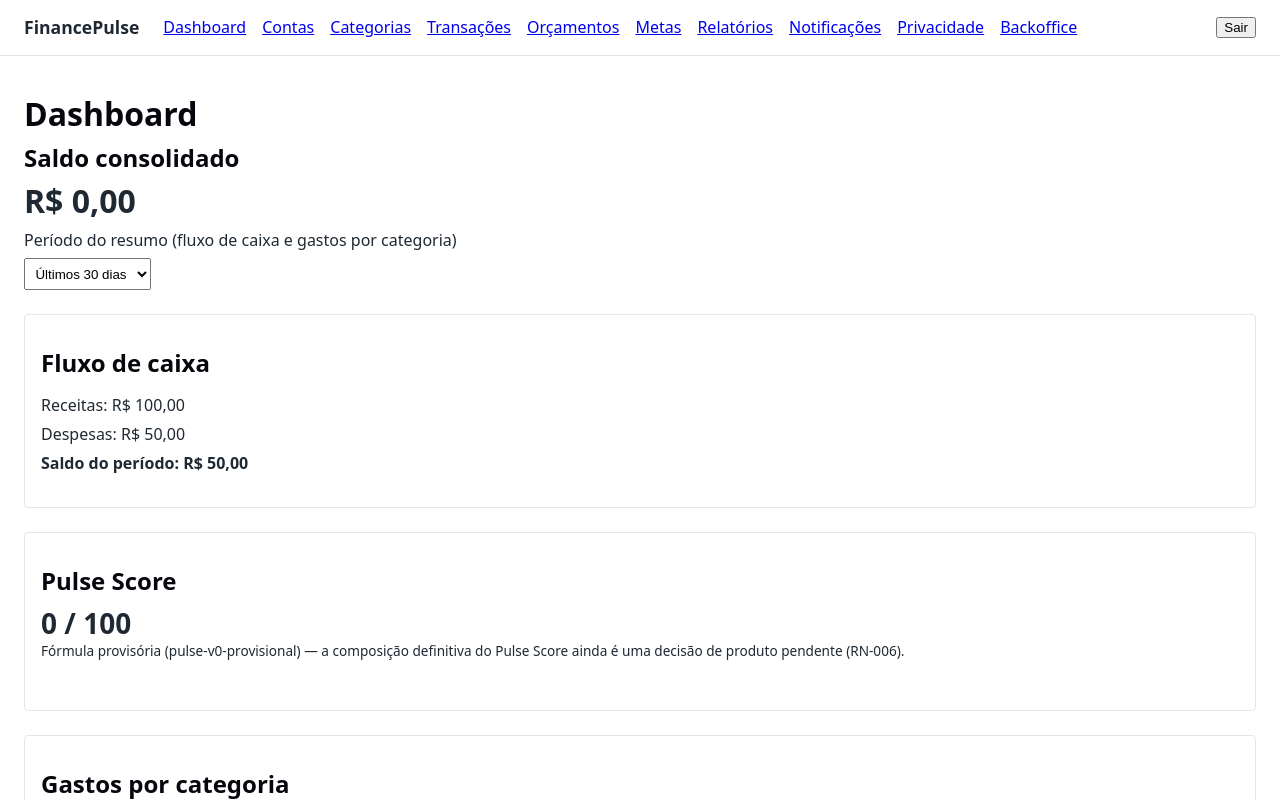
it: DashboardPage (fluxo completo via App real) › refetches cash flow and spending by category with the newly selected summary window
expect the list item "Receitas: R$ 100,00" is shown: met, box [41, 394, 185, 416]
Select "Últimos 7 dias" in the dropdown labelled "Período do resumo (fluxo de caixa e gastos por categoria)" at (87, 274), box [24, 258, 151, 290]
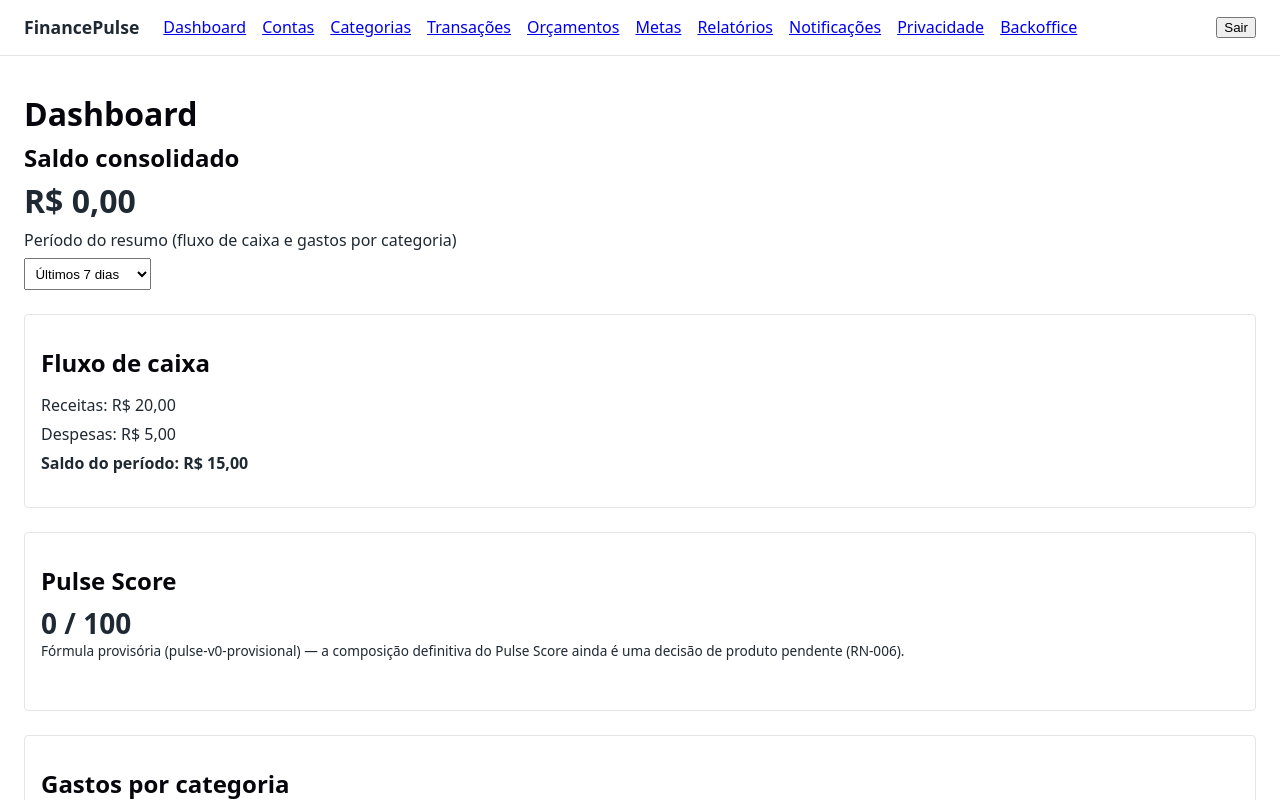
expect the list item "Receitas: R$ 20,00" is shown: met, box [41, 394, 176, 416]
